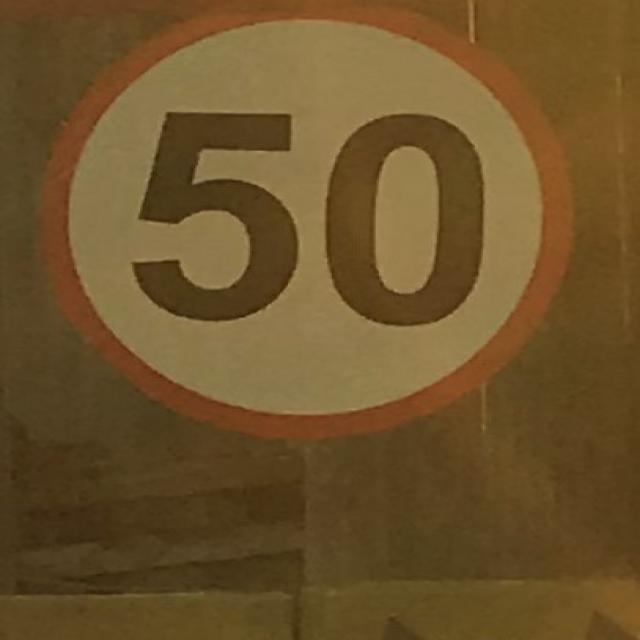Limite-50: (36, 0, 576, 442)
